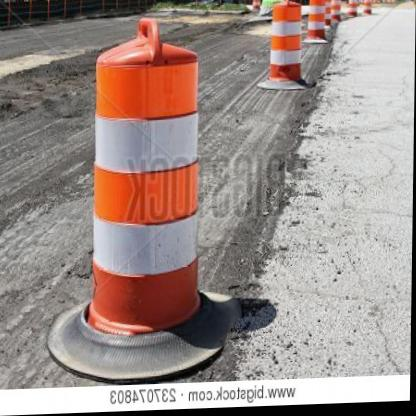obstacle: (79, 17, 201, 339), (265, 3, 304, 89)
